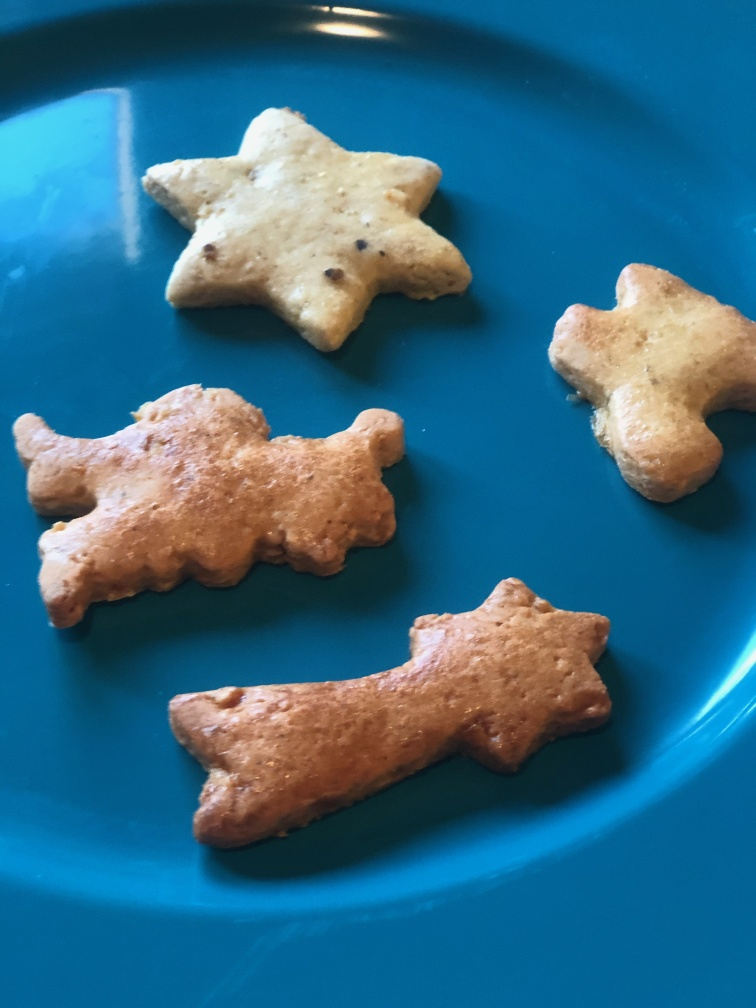lamb: (545, 259, 756, 504)
santa claus: (9, 382, 410, 628)
shooting star: (165, 571, 617, 855)
star: (141, 105, 471, 355)
